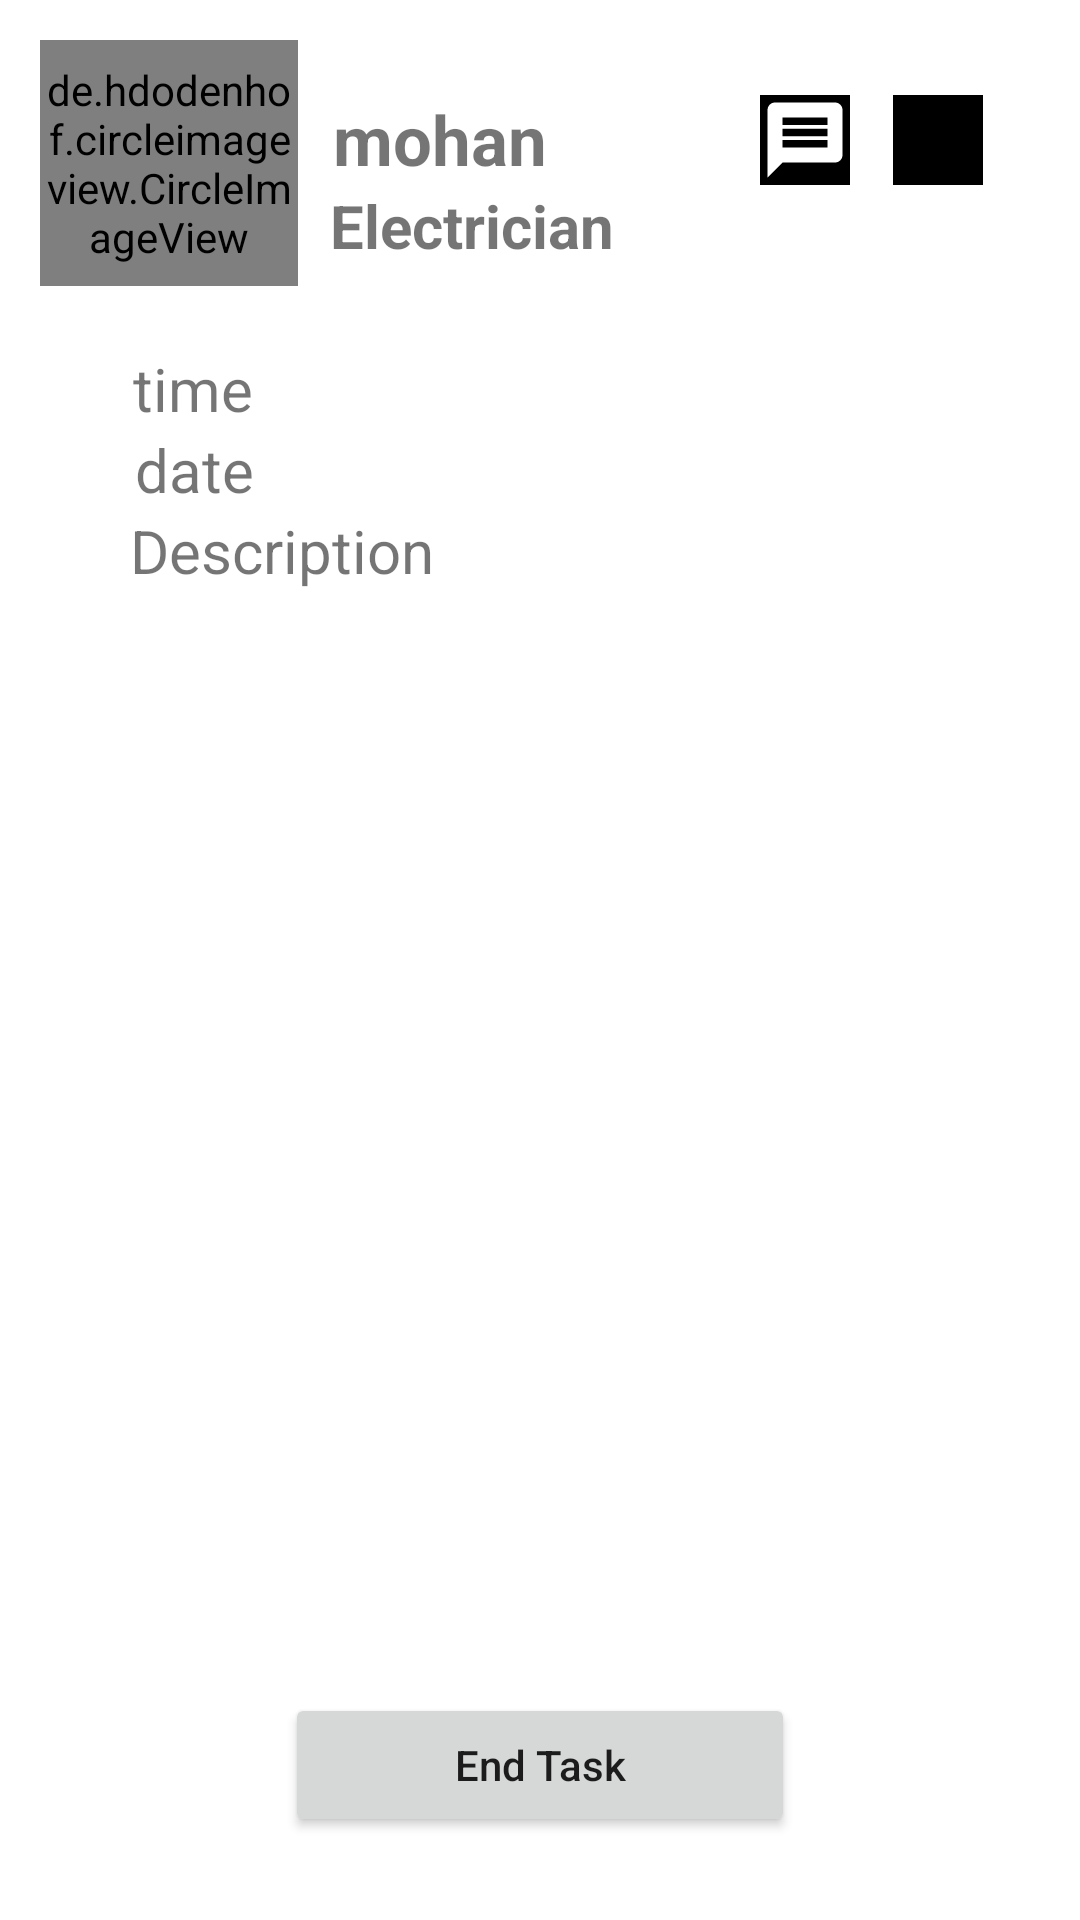

Screen size 1080px x 1920px. Icon name, then its box in pixels as bbox=(x1, y1, x2, y2):
message: bbox=(760, 95, 850, 185)
